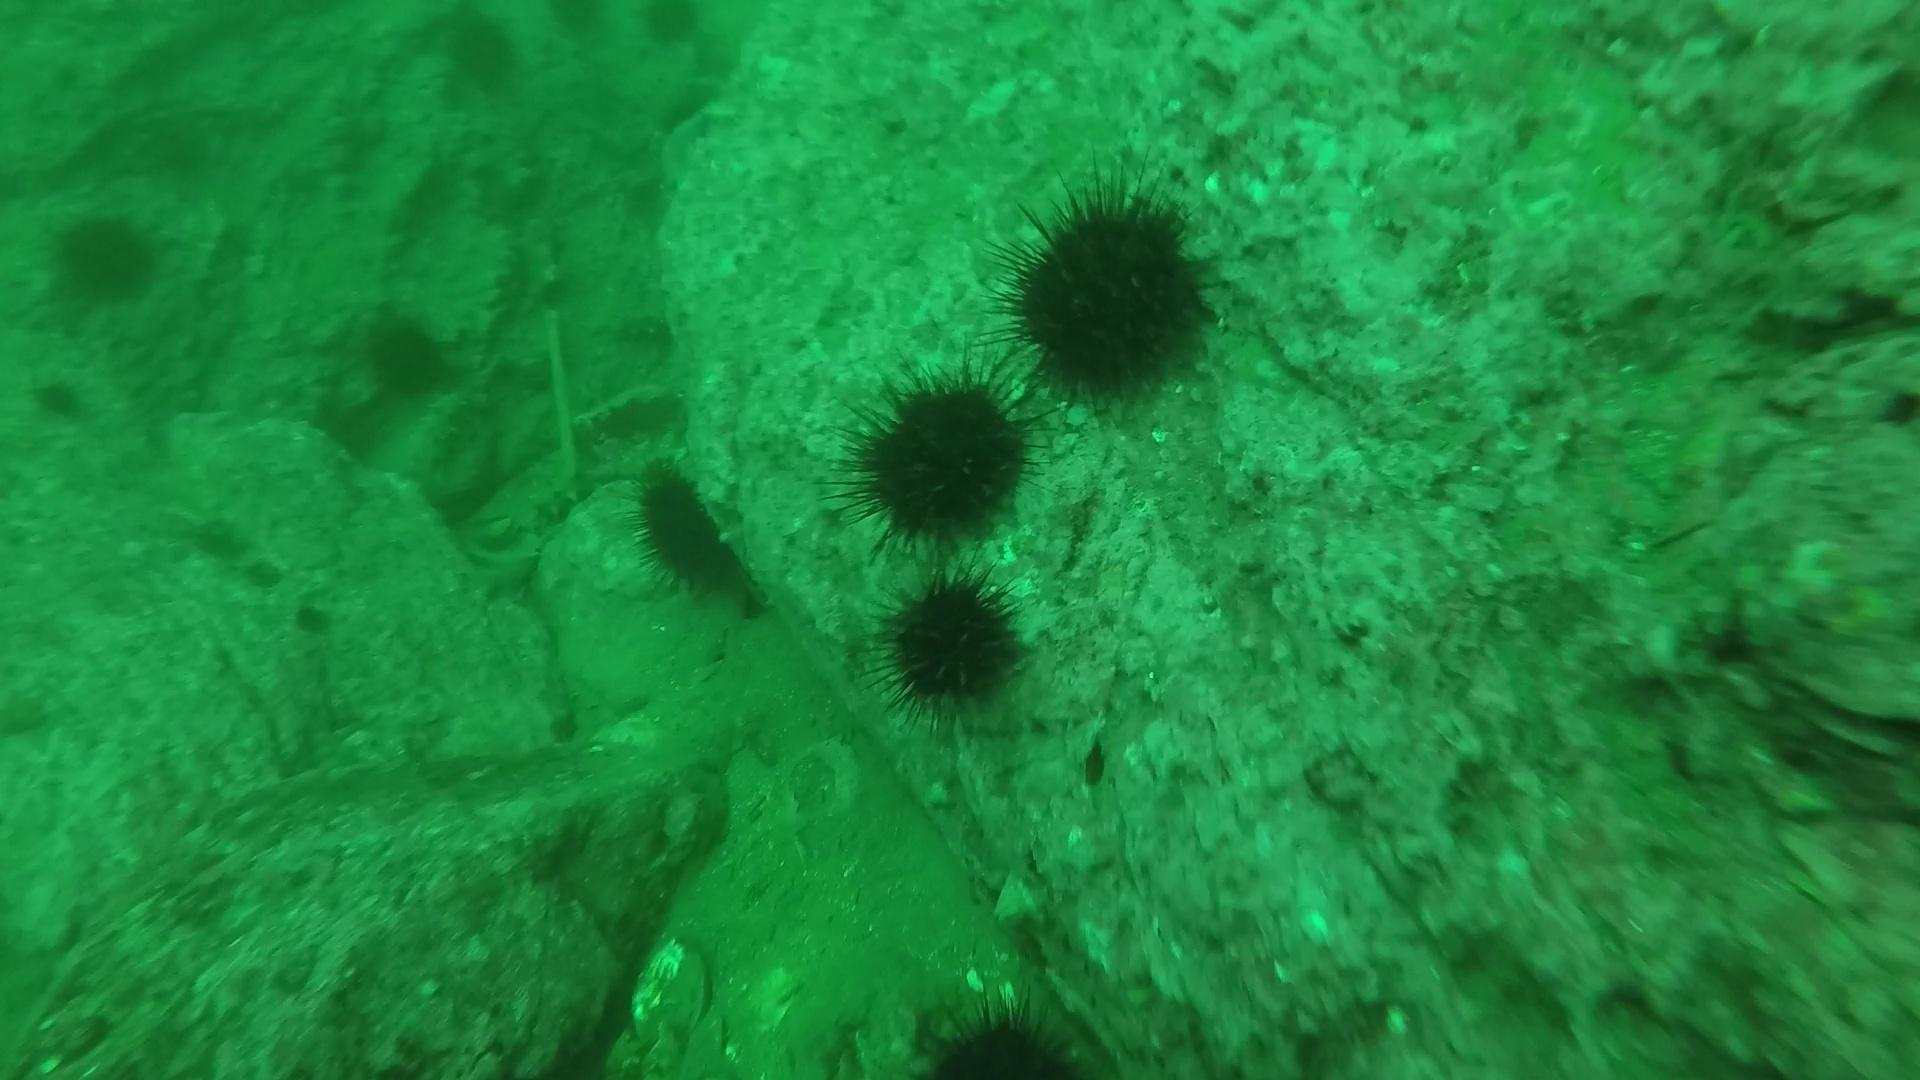urchin: (836, 347, 1076, 587), (1000, 181, 1242, 417), (887, 579, 1052, 735), (914, 993, 1098, 1080)
